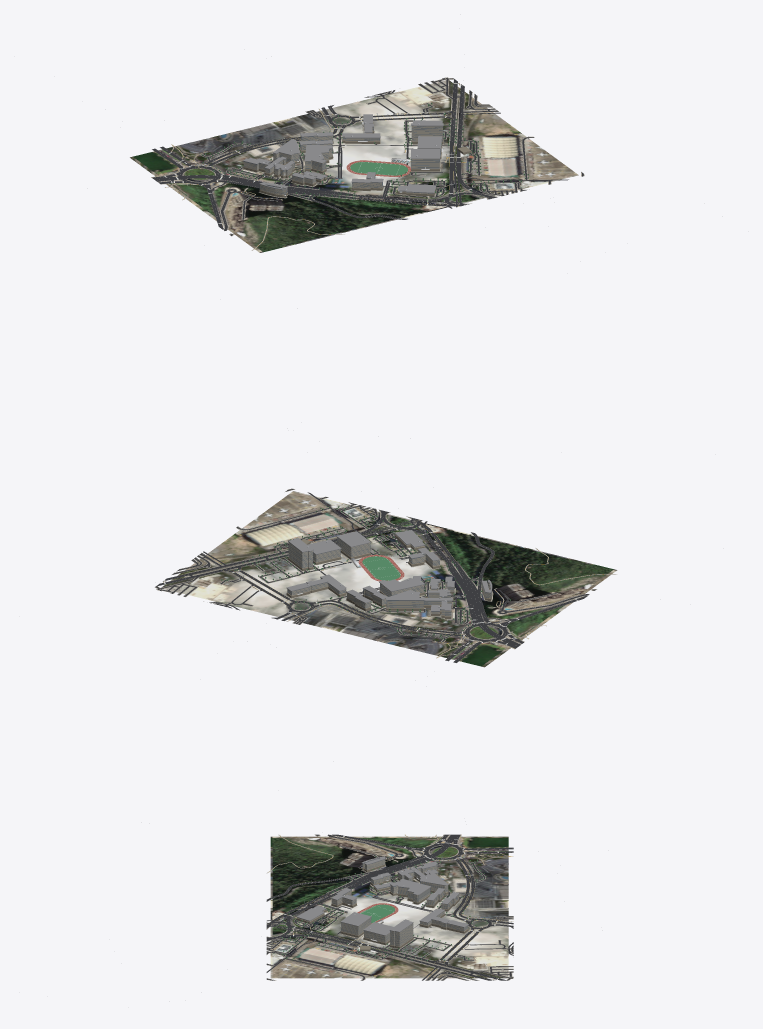
The model's file is must-campus.glb.
3 views of the same model, one above another, from view 1: azimuth 30°, elevation 25°; view 2: azimuth 150°, elevation 25°; view 3: azimuth 270°, elevation 25° (orthographic). The views are drawn at different scales.
Visible parts, largest first — view 1: AerialGround, GD_road, GD_sidewalk, GD_curb, GD_leafA; view 2: AerialGround, GD_road, GD_sidewalk, GD_curb; view 3: AerialGround, GD_road, GD_sidewalk, GD_curb, GD_leafB, GD_leafA.
Boxes of the visible parts, x1,y1,x2,y2 form: AerialGround: (130,80,578,252); GD_road: (152,78,583,235); GD_sidewalk: (157,77,584,236); GD_curb: (152,78,581,234); GD_leafA: (201,112,528,201); AerialGround: (161,491,617,667); GD_road: (155,489,595,662); GD_sidewalk: (155,488,596,644); GD_curb: (157,488,595,657); AerialGround: (270,836,508,978); GD_road: (266,834,513,980); GD_sidewalk: (266,834,513,980); GD_curb: (267,835,513,980); GD_leafB: (281,856,488,961); GD_leafA: (281,856,486,960).
Bounding box in the file's own units: 1568 × 57.95 × 2173.
216 materials, 6 textured.
